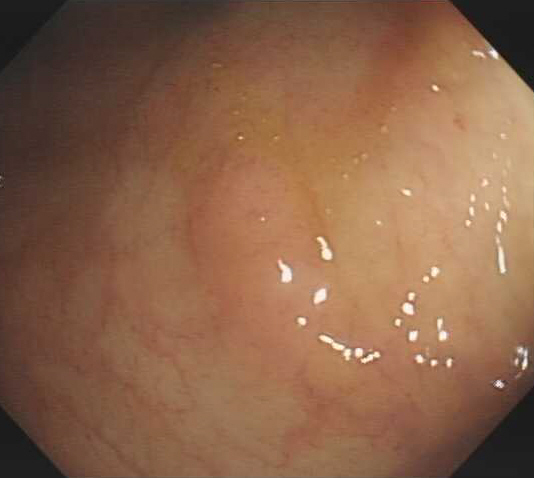others: (182, 152, 329, 375)
